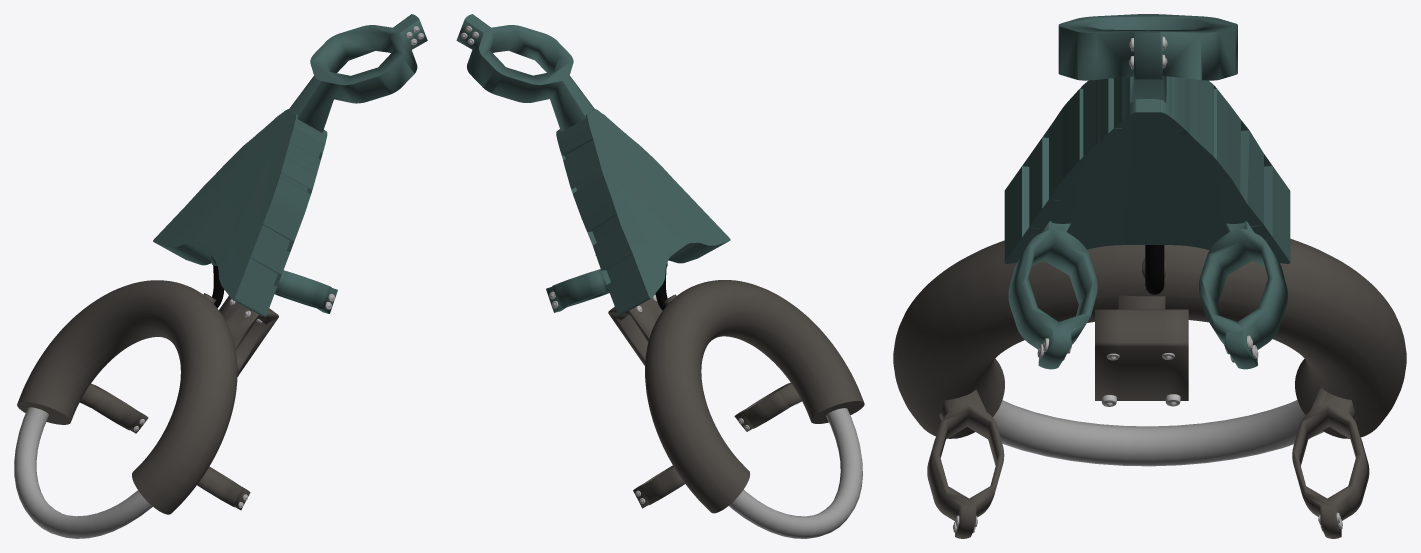
Rendered from Device.glb.
The picture shows the model from 3 angles, left to right: view 1: azimuth 30°, elevation 25°; view 2: azimuth 150°, elevation 25°; view 3: azimuth 270°, elevation 25°; orthographic projection. The views are drawn at different scales.
Parts seen in each view (by area): view 1: блокування коліс(на велосипеді), gps датчик, метал блокування (на велосипеді), кріплення (болти); view 2: блокування коліс(на велосипеді), gps датчик, метал блокування (на велосипеді); view 3: gps датчик, блокування коліс(на велосипеді), метал блокування (на велосипеді), кріплення (болти), кабель з'єднання 2.
Boxes of the visible parts, x1,y1,x2,y2 form: блокування коліс(на велосипеді): (17,280,278,514); gps датчик: (153,14,427,317); метал блокування (на велосипеді): (14,407,152,538); кріплення (болти): (133,26,424,507); блокування коліс(на велосипеді): (608,280,864,513); gps датчик: (456,14,730,315); метал блокування (на велосипеді): (729,408,862,538); gps датчик: (1004,14,1290,369); блокування коліс(на велосипеді): (893,238,1406,538); метал блокування (на велосипеді): (993,400,1323,466); кріплення (болти): (953,36,1342,532); кабель з'єднання 2: (1145,245,1164,294).
Size of the model in its own units: 0.4568 by 0.4804 by 0.2988.
